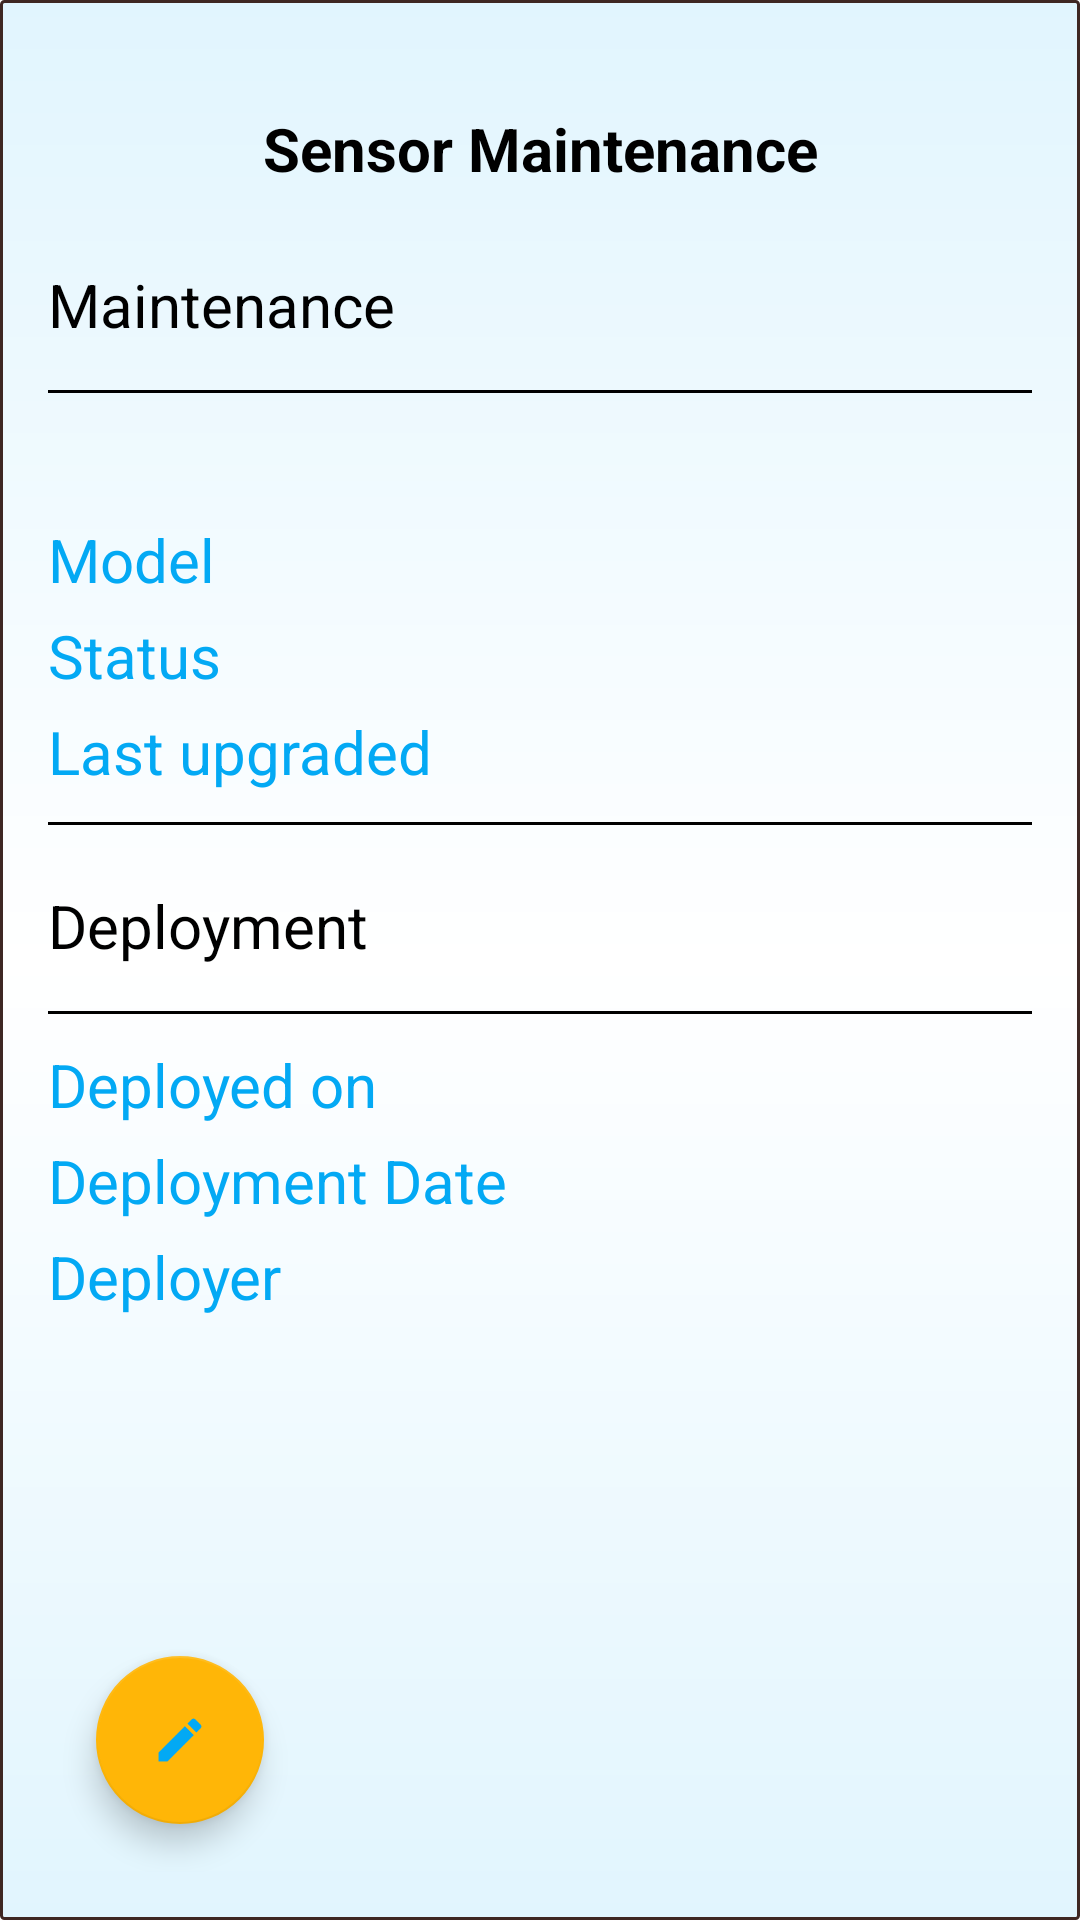

Icon click points for this 1080w x 1920h phone screenshot, format [x,y]:
edit: [180,1740]
